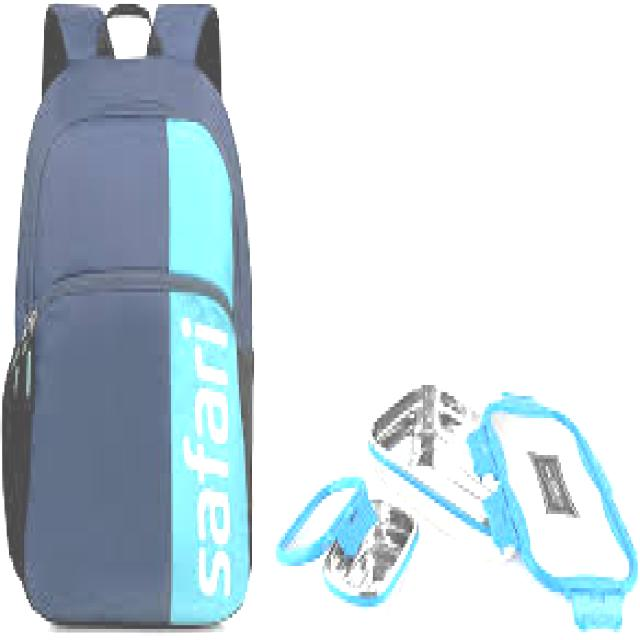backpack: (1, 1, 255, 626)
